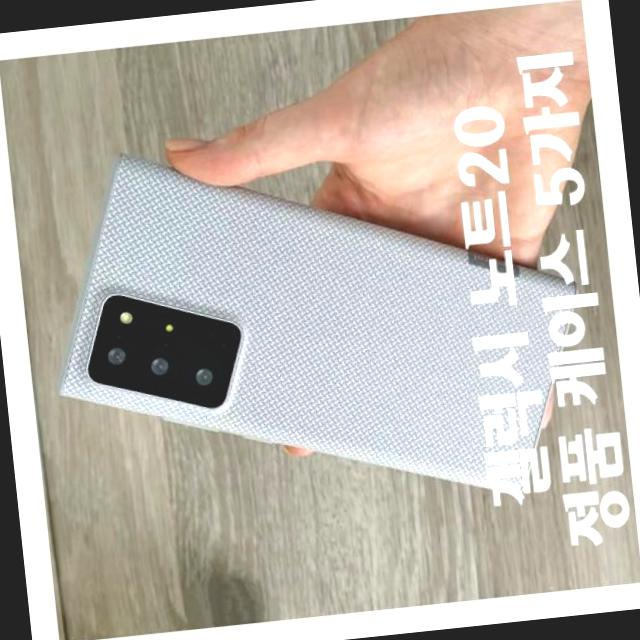lens_back: (101, 340, 131, 370), (145, 351, 174, 378), (191, 363, 216, 388)
phone: (34, 104, 604, 538)
